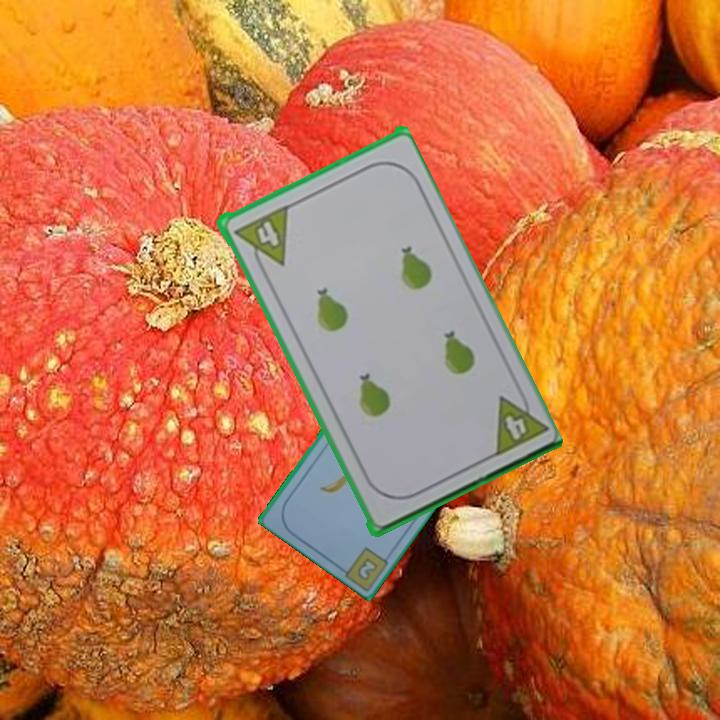2b: (353, 554, 381, 583)
4p: (487, 383, 549, 460), (229, 202, 291, 276)
